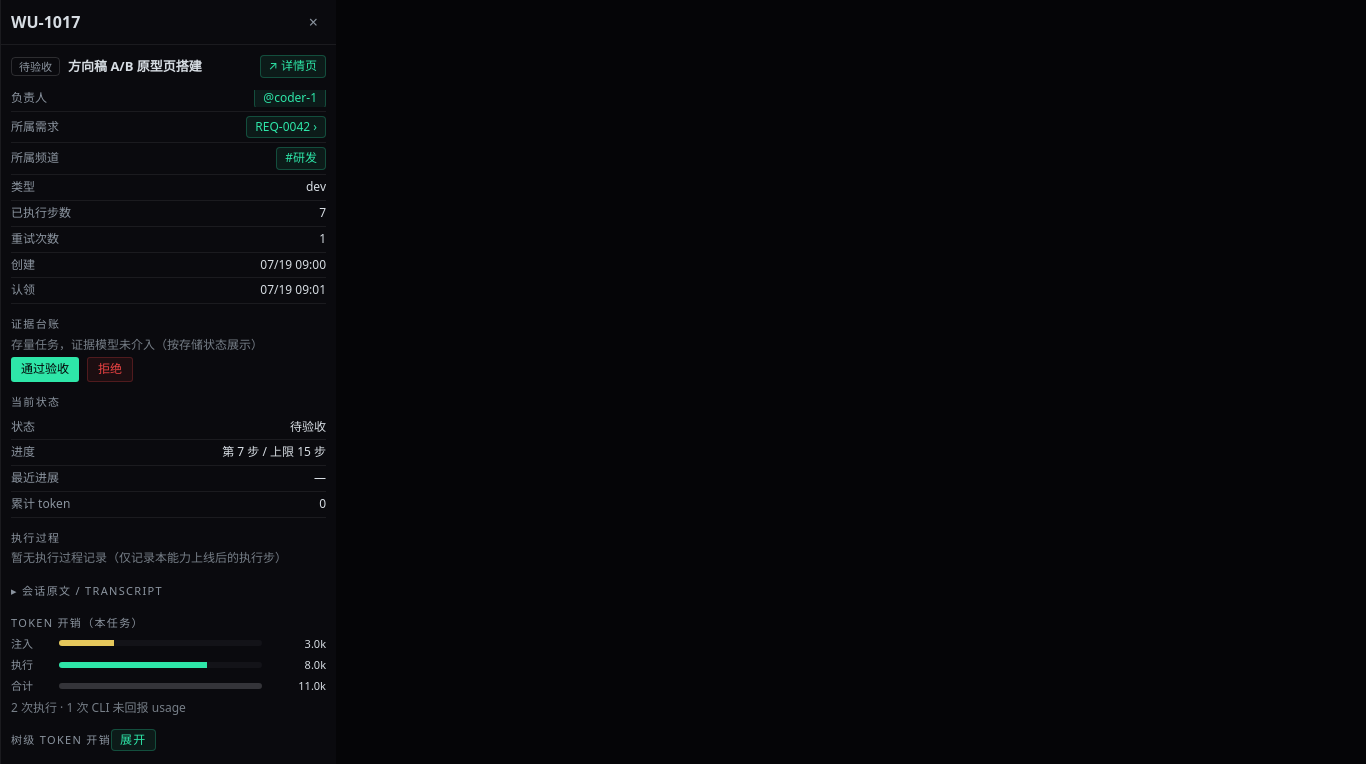
Scenario: WorkUnitDrawer › 批次A 项5：拒绝失败 → 弹窗保持打开 + 错误行进弹窗
The image size is (1366, 764).
Click the button "拒绝" at (110, 370), box [87,357,133,382]
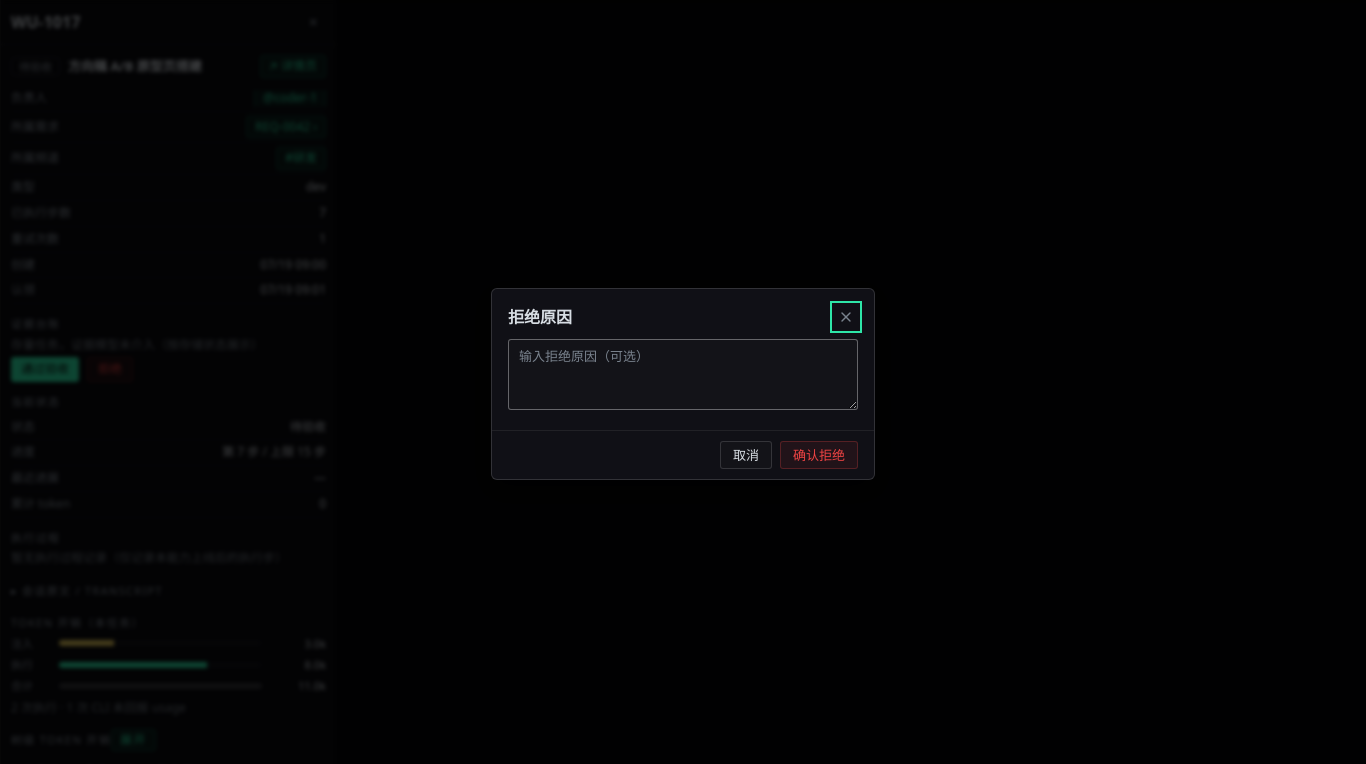
Click the button "确认拒绝" at (819, 455), box [780,441,858,469]
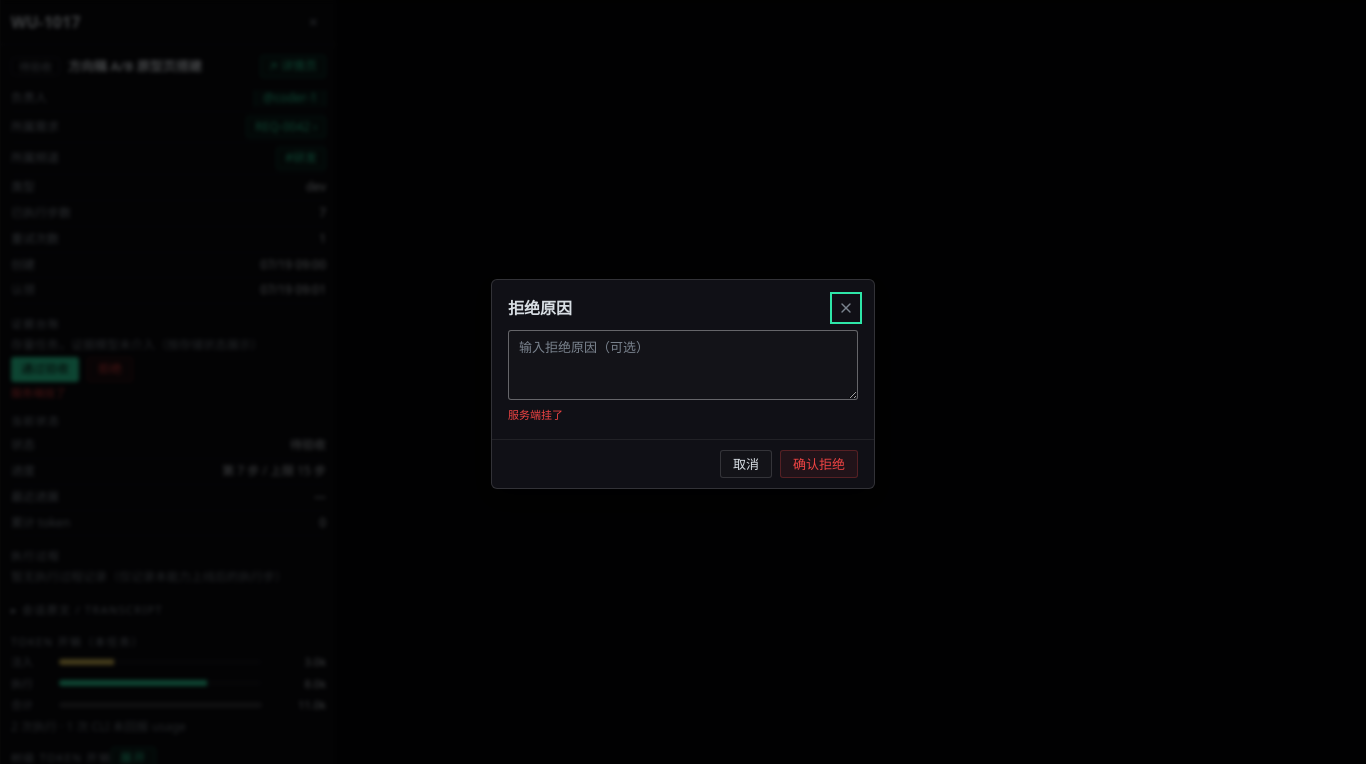
Expected: the heading "拒绝原因" is shown, [508,296,572,319]
Expected: the 1st text "服务端挂了" is shown, [11,385,66,400]
